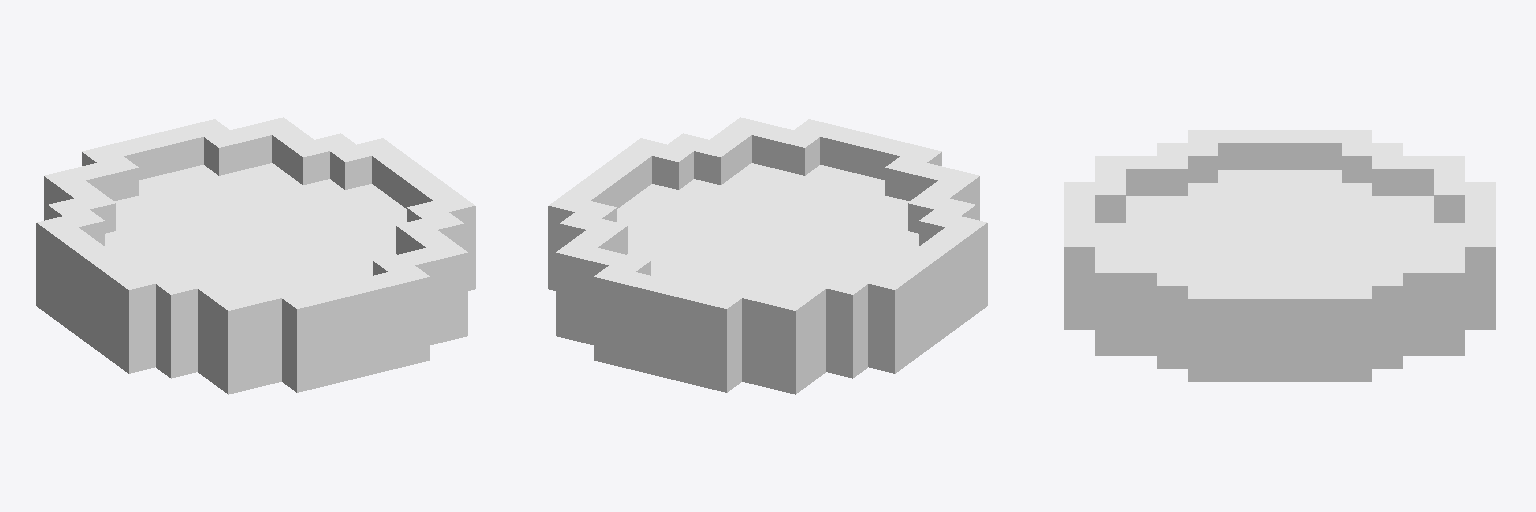
The model's file is Coin.obj.
3 views of the same model, side by side, from view 1: azimuth 30°, elevation 25°; view 2: azimuth 150°, elevation 25°; view 3: azimuth 270°, elevation 25° (orthographic).
Parts seen in each view (by area): view 1: object 1; view 2: object 1; view 3: object 1.
Part boxes in pixels (left/top/right/bottom): object 1: left=36, top=117, right=475, bottom=394; object 1: left=548, top=117, right=987, bottom=394; object 1: left=1064, top=130, right=1495, bottom=381.
Size of the model in its own units: 1.3 by 0.3 by 1.4.